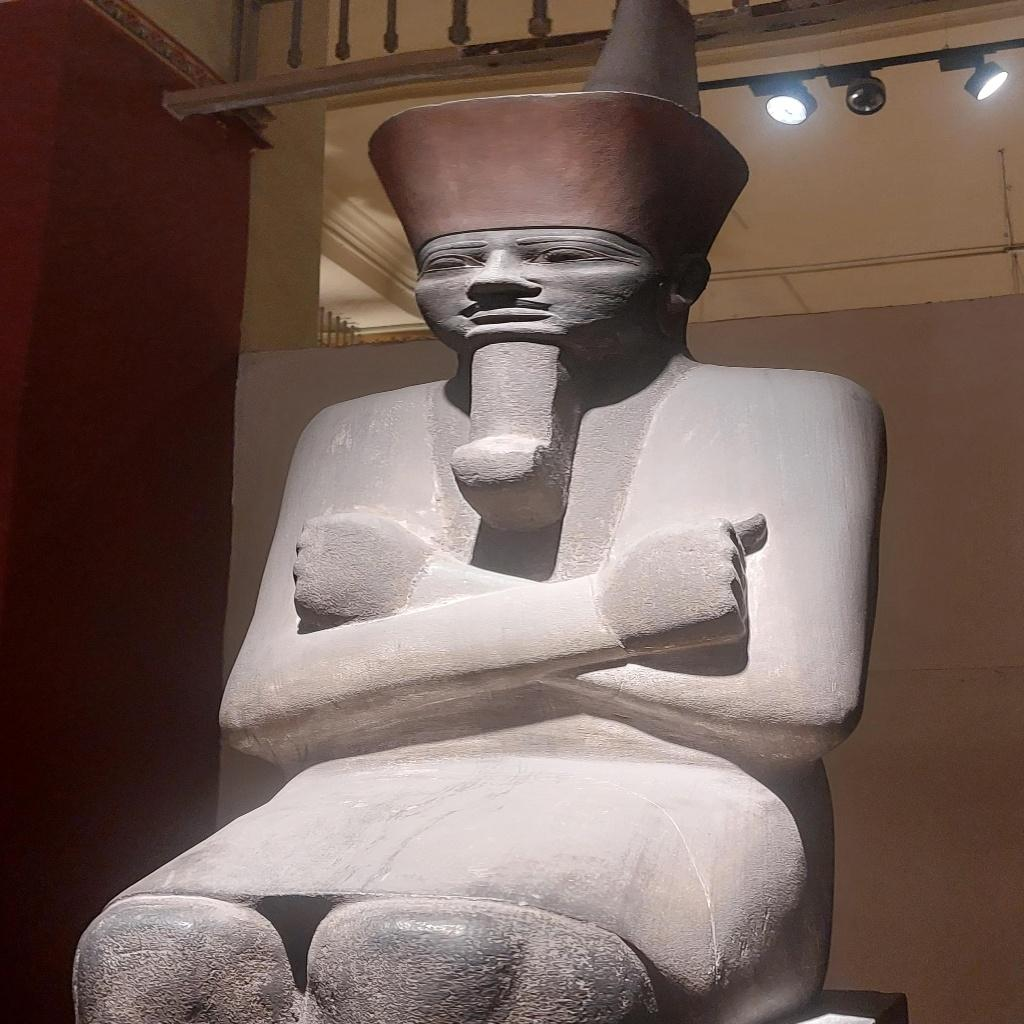Mentuhotep Nebhetpre: (67, 6, 892, 1020)
